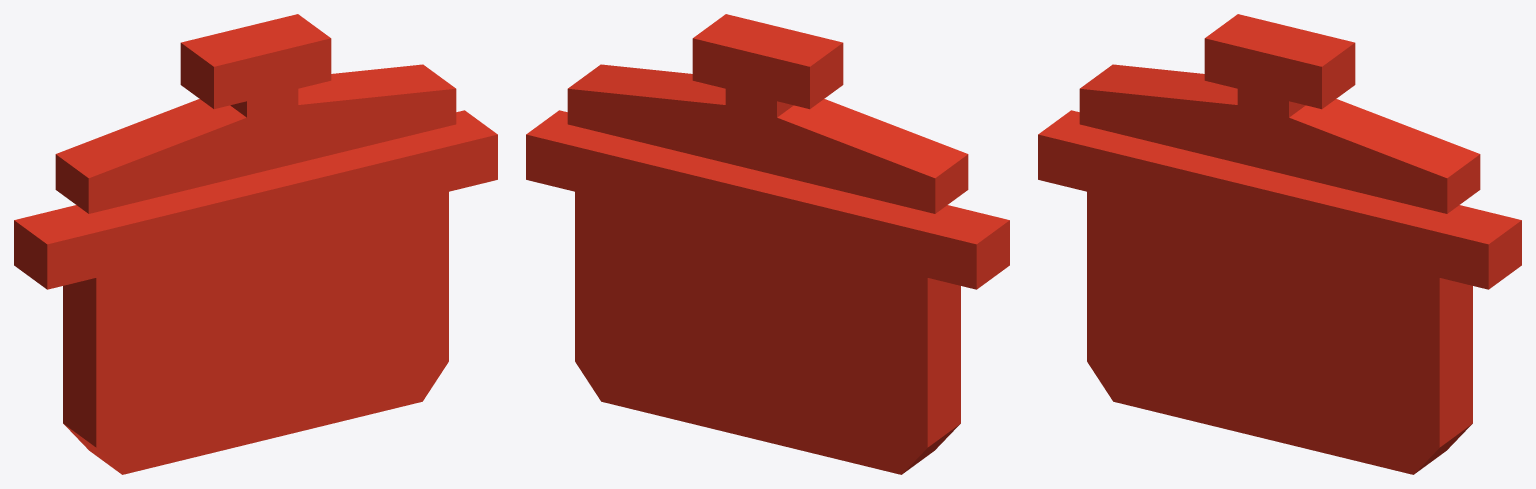
Rendered from Icon_Pan.fbx.
3 views of the same model, side by side, from view 1: azimuth 30°, elevation 25°; view 2: azimuth 150°, elevation 25°; view 3: azimuth 330°, elevation 25° (orthographic).
Parts seen in each view (by area): view 1: Icon_Pan; view 2: Icon_Pan; view 3: Icon_Pan.
Boxes of the visible parts, x1=… form: Icon_Pan: x1=14, y1=14, x2=497, y2=474; Icon_Pan: x1=526, y1=14, x2=1009, y2=474; Icon_Pan: x1=1038, y1=14, x2=1521, y2=474.
Size of the model in its own units: 94.64 by 77.43 by 12.06.
